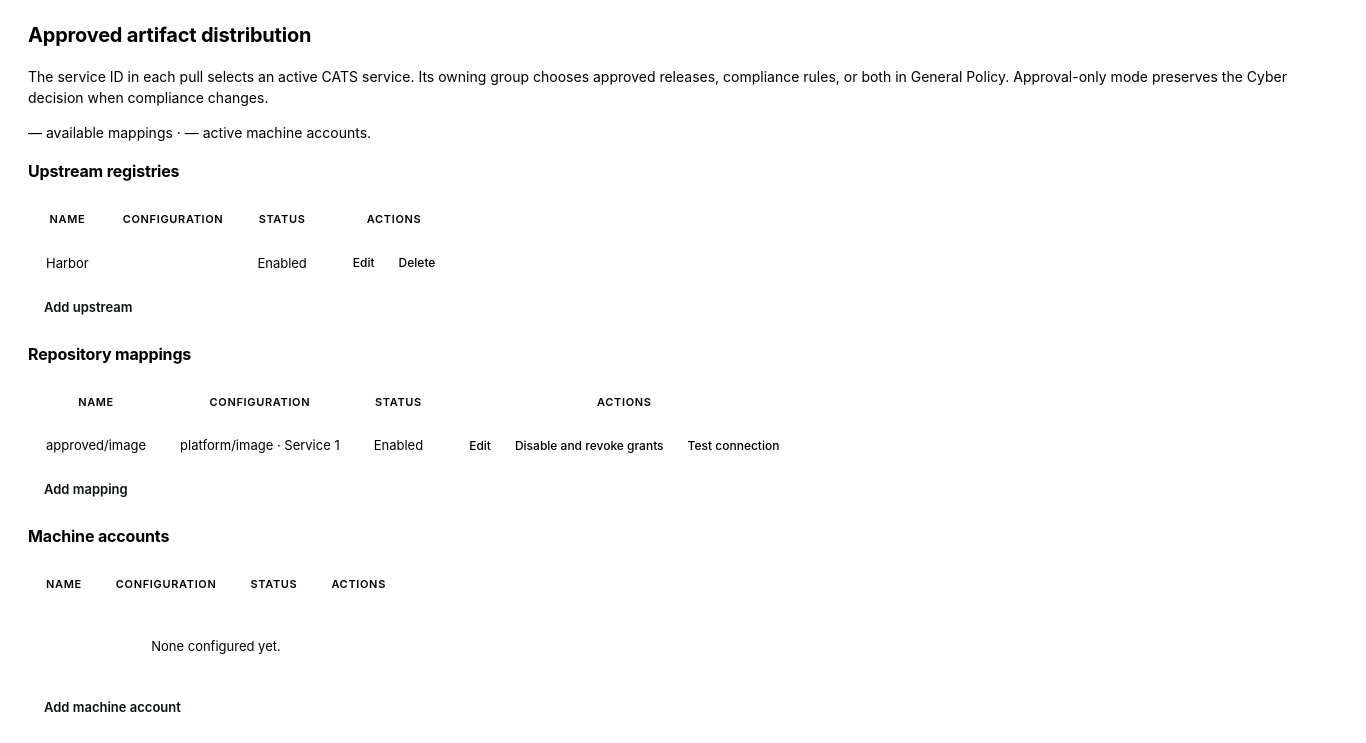
Test: clears retired age limits when editing a mapping in full mode
Click the button "Edit" in the row of "approved/image" at x=480, y=446, box 457,432 -> 503,460
(page scrolled)
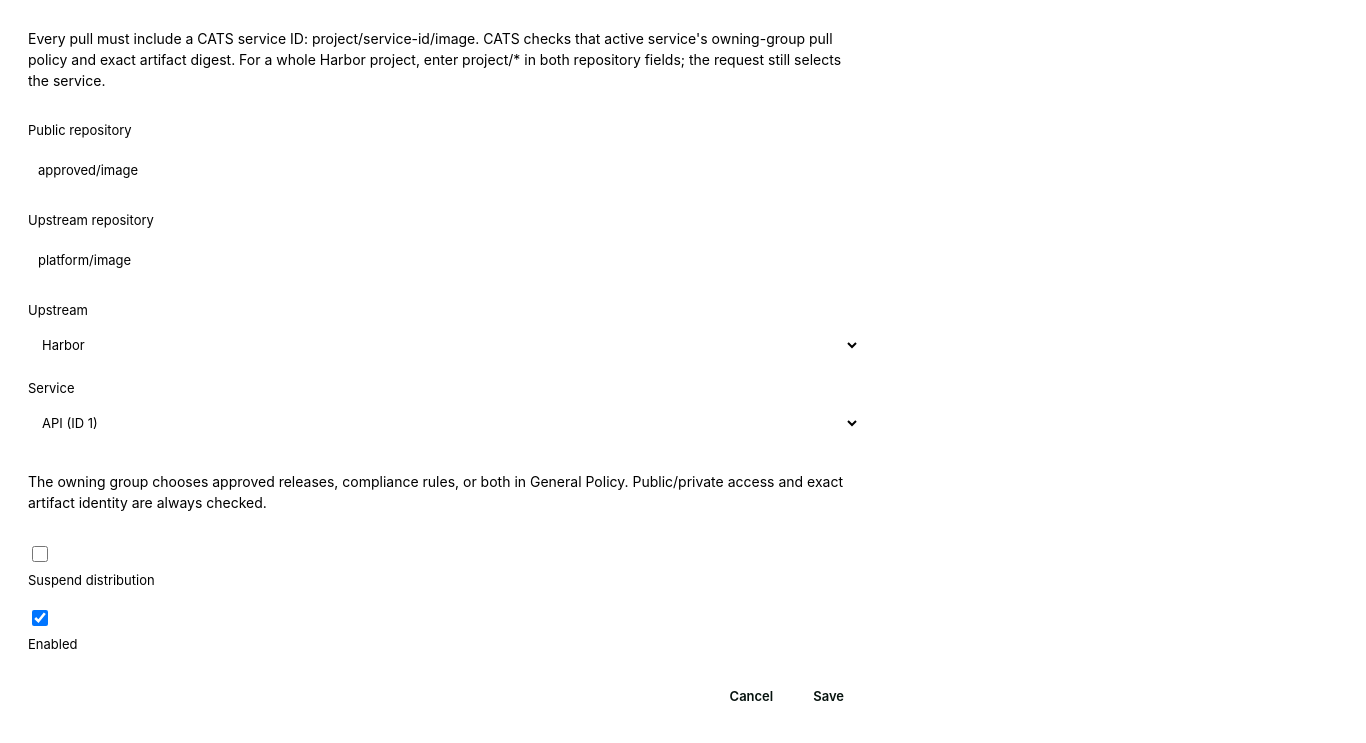
Click the button "Save" at x=829, y=696, box 797,678 -> 860,714
(page scrolled)
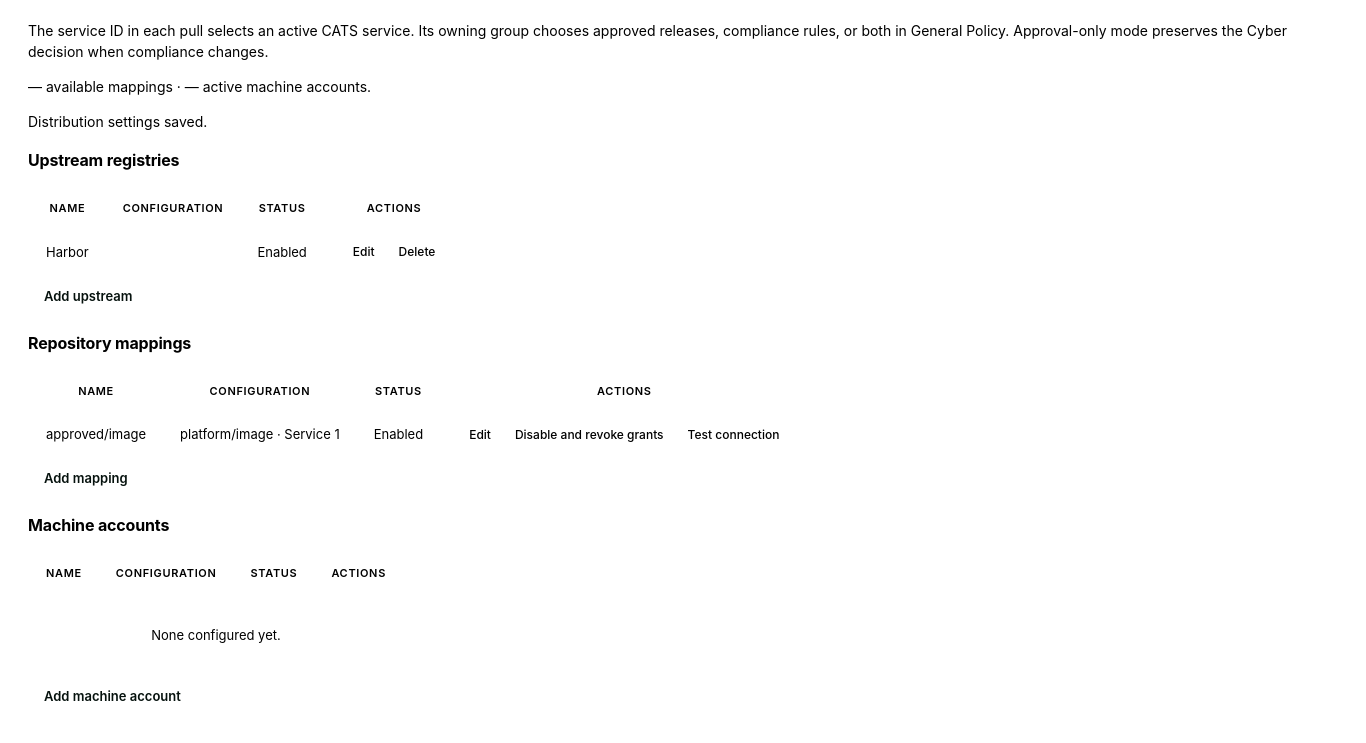
expect the text "Distribution settings saved." is shown: met, box 28,113 -> 207,130
